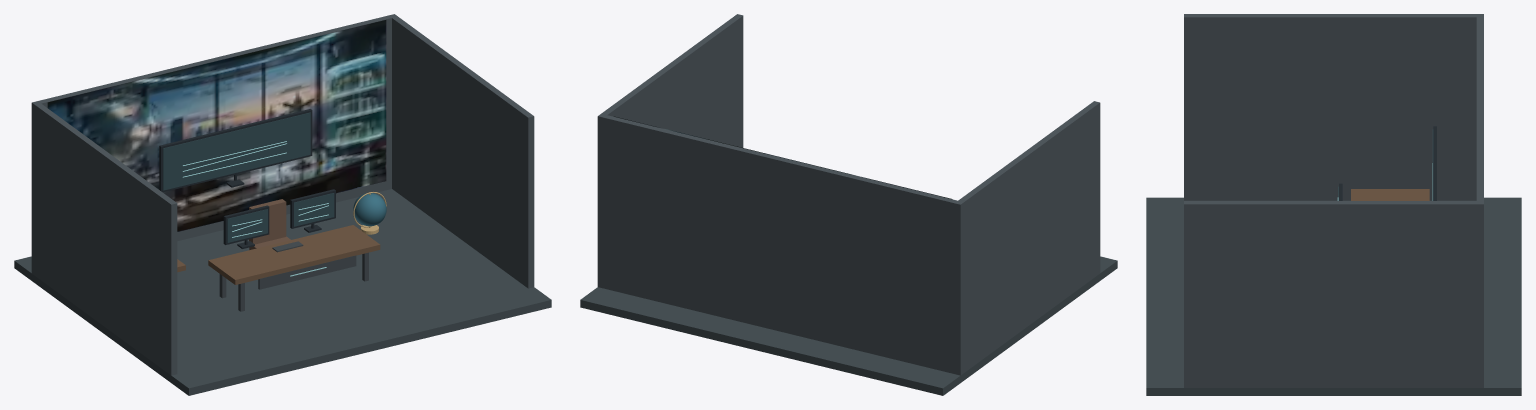
File: macro.glb
The picture shows the model from 3 angles, left to right: view 1: azimuth 30°, elevation 25°; view 2: azimuth 150°, elevation 25°; view 3: azimuth 270°, elevation 25°; orthographic projection. The views are drawn at different scales.
Visible parts, largest first — view 1: Room floor slab.005, Room cinematic backplate.005, Room left wall.005, Room right wall.005, Abstract market display, Executive desk top.005, Room rear wall.005, Monitor bezel.022, Desk front fascia.005, Abstract market display.022, Abstract market display.021, Chair back (+2 smaller); view 2: Room rear wall.005, Room left wall.005, Room floor slab.005, Room right wall.005; view 3: Room right wall.005, Room left wall.005, Room floor slab.005, Room rear wall.005, Global briefing table.
Boxes of the visible parts, bbox=[...] form: Room floor slab.005: bbox=[14, 189, 551, 395]; Room cinematic backplate.005: bbox=[47, 20, 386, 231]; Room left wall.005: bbox=[31, 102, 177, 375]; Room right wall.005: bbox=[392, 16, 534, 288]; Abstract market display: bbox=[163, 112, 310, 190]; Executive desk top.005: bbox=[208, 225, 380, 284]; Room rear wall.005: bbox=[33, 14, 397, 240]; Monitor bezel.022: bbox=[159, 109, 312, 192]; Desk front fascia.005: bbox=[258, 255, 356, 289]; Abstract market display.022: bbox=[294, 193, 334, 226]; Abstract market display.021: bbox=[227, 209, 267, 242]; Chair back: bbox=[249, 199, 286, 244]; Room rear wall.005: bbox=[597, 114, 963, 375]; Room left wall.005: bbox=[954, 101, 1100, 374]; Room floor slab.005: bbox=[580, 256, 1117, 395]; Room right wall.005: bbox=[598, 14, 743, 147]; Room right wall.005: bbox=[1184, 201, 1483, 387]; Room left wall.005: bbox=[1184, 14, 1483, 200]; Room floor slab.005: bbox=[1146, 197, 1521, 395]; Room rear wall.005: bbox=[1476, 14, 1483, 387]; Global briefing table: bbox=[1351, 189, 1429, 200].
Bounding box in the file's own units: 12 × 5.64 × 10.
Materials: 11 (1 with a texture image).
